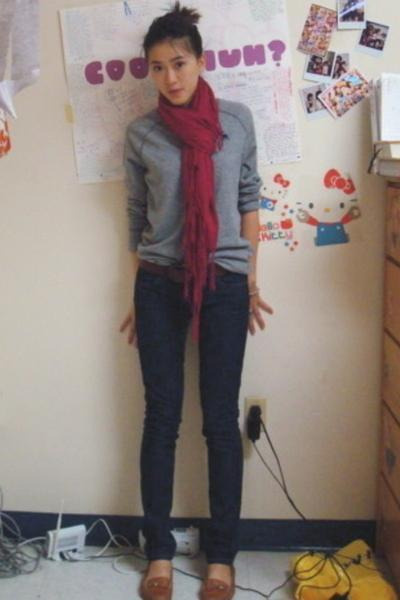jacket: (120, 98, 276, 271)
pants: (134, 260, 250, 569)
shoe: (138, 573, 227, 599)
